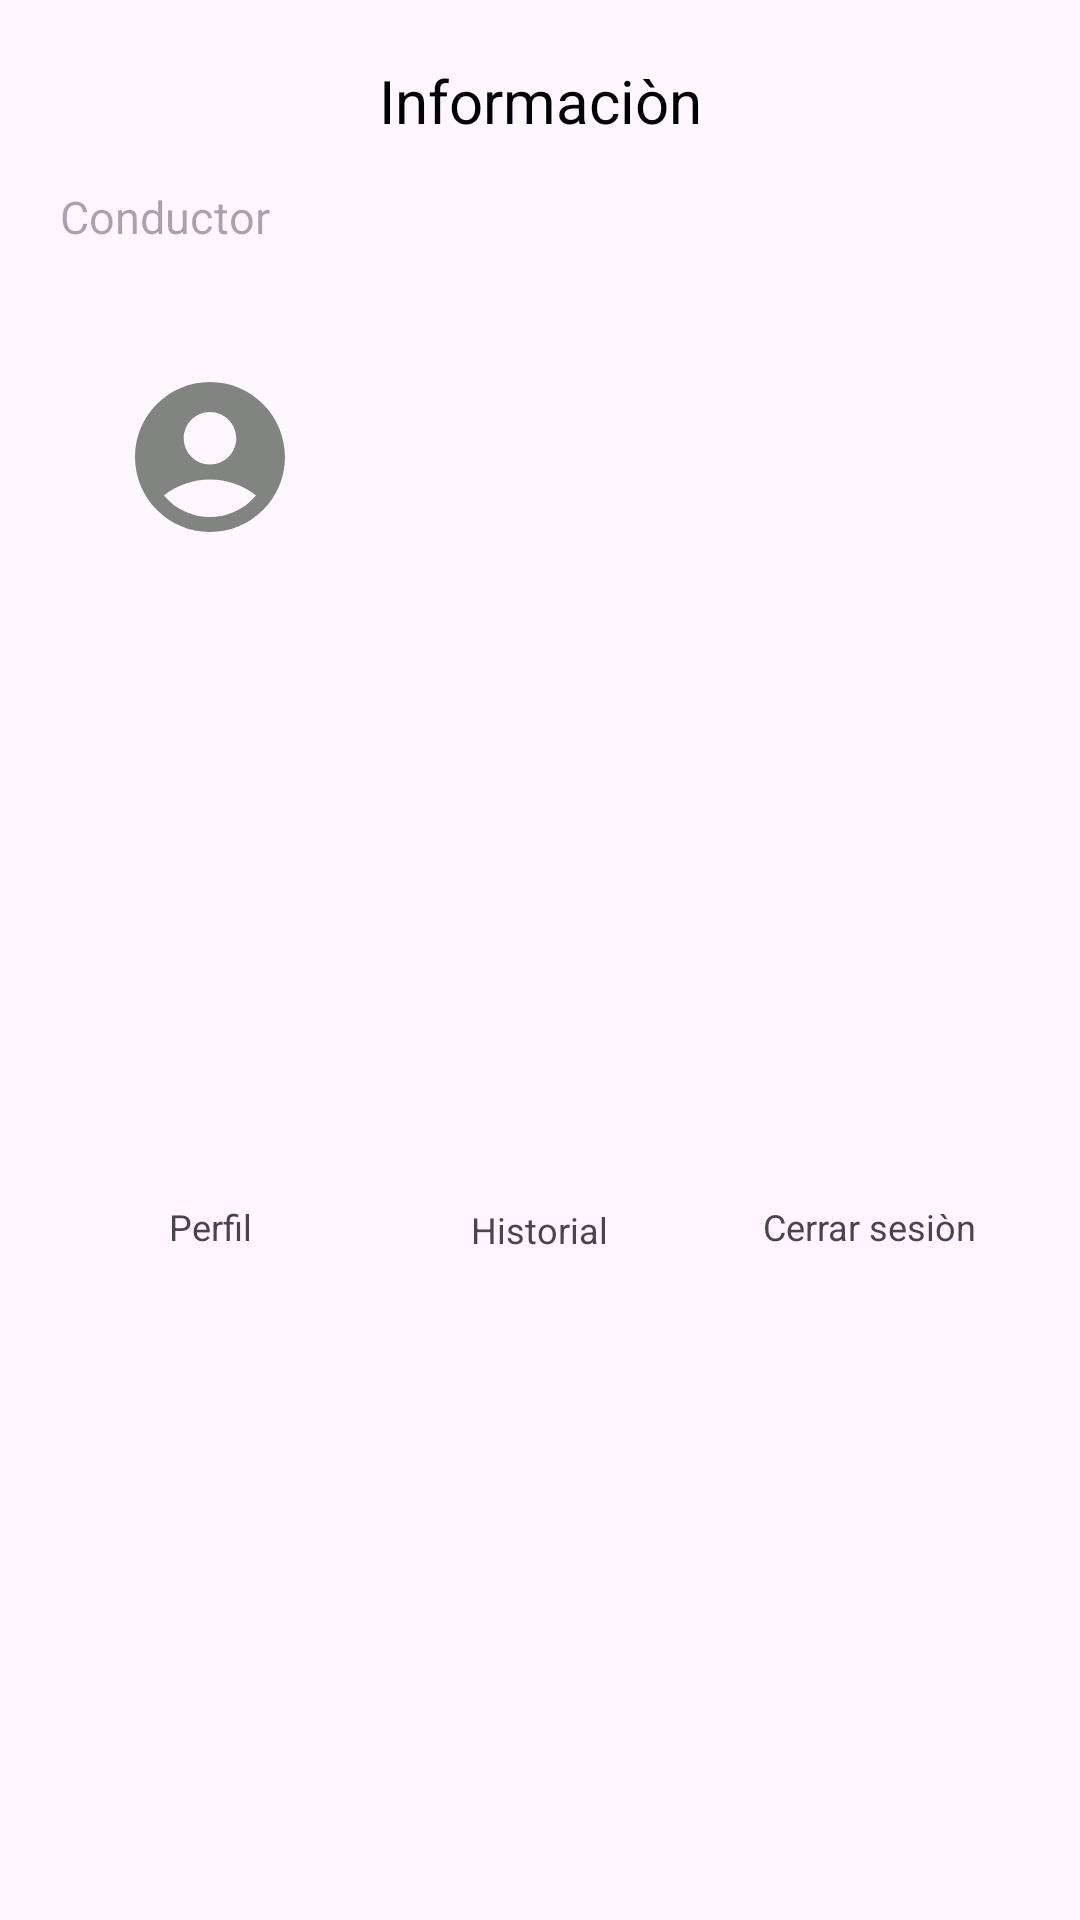

Point at icon controls on the screen. Image size 1080w x 1920h, points as (x,y).
profile: (210,457)
